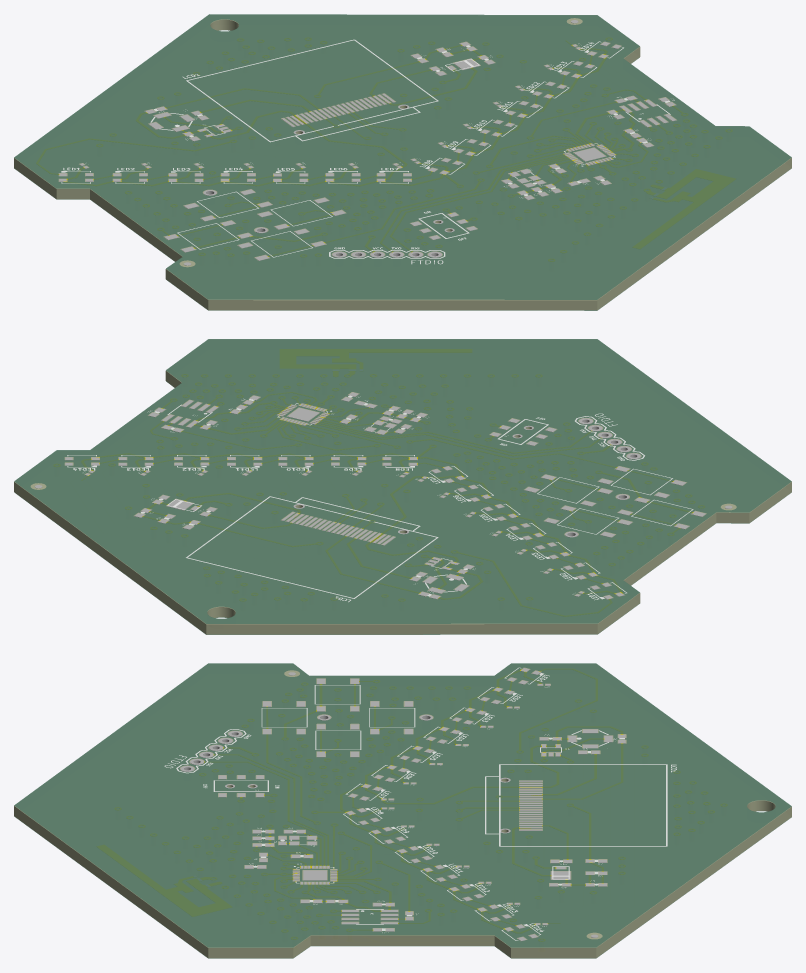
Rendered from hacker-warehouse-badge.glb.
3 renders of one model, top to bottom at view 1: azimuth 30°, elevation 25°; view 2: azimuth 150°, elevation 25°; view 3: azimuth 270°, elevation 25°, orthographic.
Parts seen in each view (by area): view 1: =>[0:1:1:7], =>[0:1:1:9], =>[0:1:1:2], =>[0:1:1:5]; view 2: =>[0:1:1:7], =>[0:1:1:9], =>[0:1:1:2], =>[0:1:1:5]; view 3: =>[0:1:1:7], =>[0:1:1:9], =>[0:1:1:2], =>[0:1:1:5].
Part boxes in pixels (<box>): =>[0:1:1:7]: <box>14,14,791,310</box>; =>[0:1:1:9]: <box>14,15,791,310</box>; =>[0:1:1:2]: <box>36,20,734,265</box>; =>[0:1:1:5]: <box>61,39,674,264</box>; =>[0:1:1:7]: <box>14,339,791,634</box>; =>[0:1:1:9]: <box>14,340,791,634</box>; =>[0:1:1:2]: <box>34,349,732,616</box>; =>[0:1:1:5]: <box>67,395,693,602</box>; =>[0:1:1:7]: <box>14,663,791,958</box>; =>[0:1:1:9]: <box>14,664,791,958</box>; =>[0:1:1:2]: <box>98,668,726,941</box>; =>[0:1:1:5]: <box>164,667,676,940</box>.
Size of the model in its own units: 0.0895 by 0.00166 by 0.1035.
4 materials, 4 textured.
